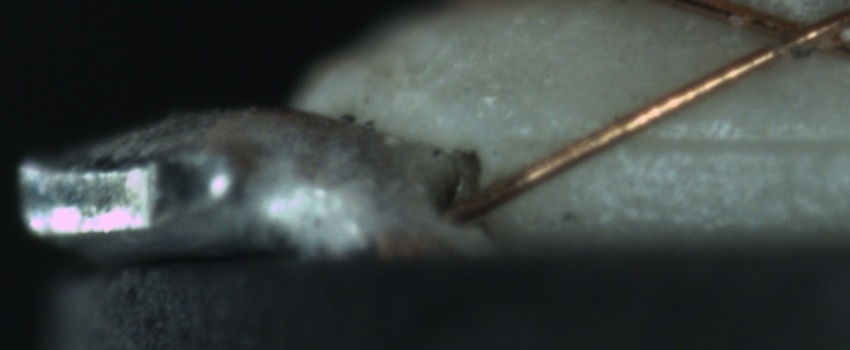CL: (748, 4, 842, 66)
DL: (561, 110, 850, 176)
